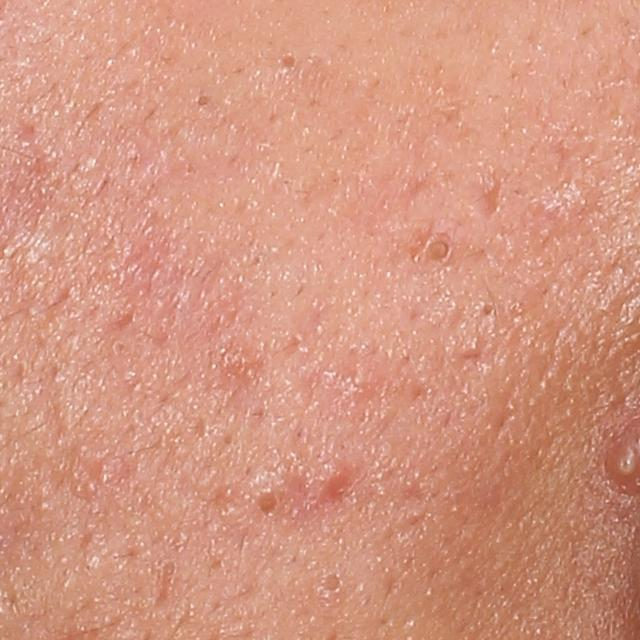atrophic_scar: (479, 167, 599, 301), (465, 171, 508, 228), (153, 556, 177, 611)
comedo: (421, 237, 463, 266), (314, 571, 348, 598), (255, 490, 283, 521), (274, 50, 301, 78), (476, 296, 500, 320), (107, 335, 128, 358), (218, 484, 236, 502), (192, 92, 211, 108)
papule: (312, 468, 346, 505)
